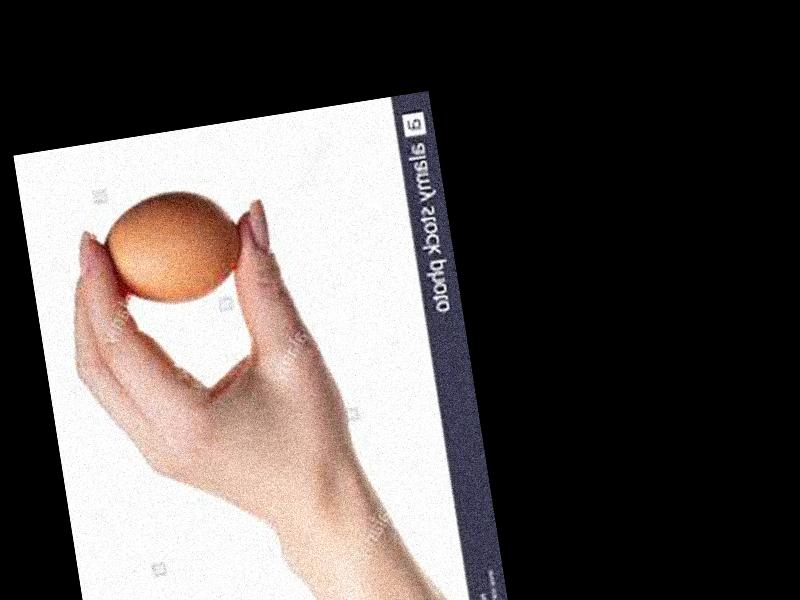Eggs: (98, 182, 248, 317)
